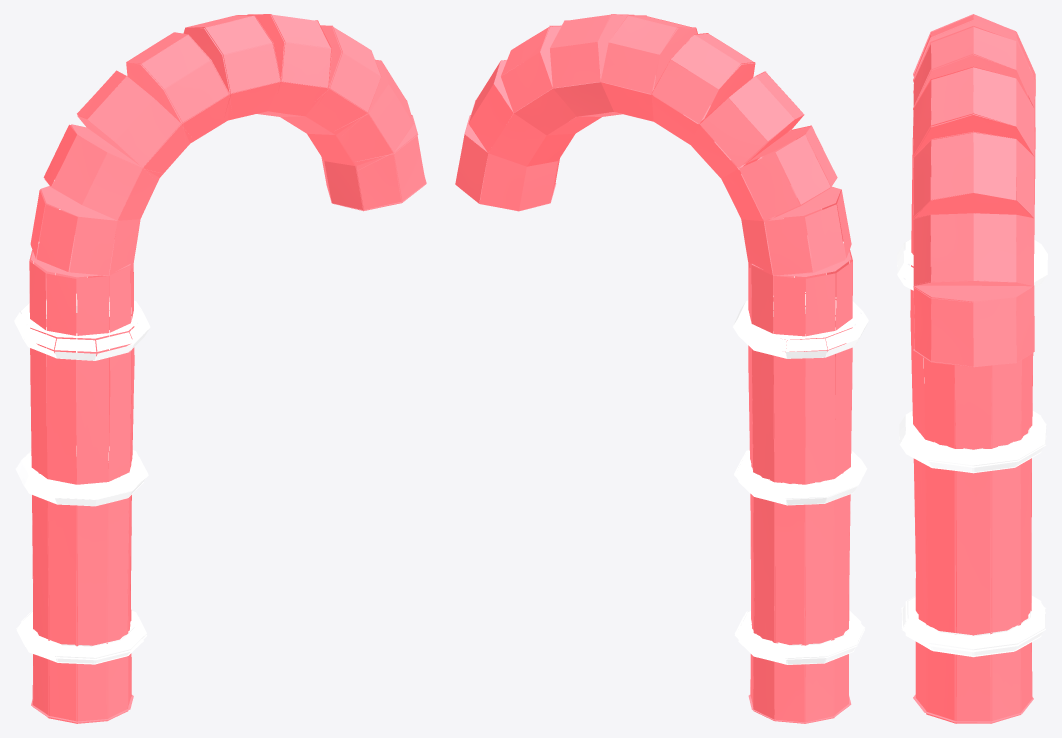
Rendered from xmas_candy_cane.glb.
3 renders of one model, left to right at view 1: azimuth 30°, elevation 25°; view 2: azimuth 150°, elevation 25°; view 3: azimuth 270°, elevation 25°, orthographic. The views are drawn at different scales.
Visible parts, largest first — view 1: CandyCane; view 2: CandyCane; view 3: CandyCane.
Boxes of the visible parts, bbox=[...] form: CandyCane: bbox=[14, 14, 426, 723]; CandyCane: bbox=[455, 14, 868, 723]; CandyCane: bbox=[897, 14, 1047, 723].
Size of the model in its own units: 1.35 by 2.1 by 0.386.
